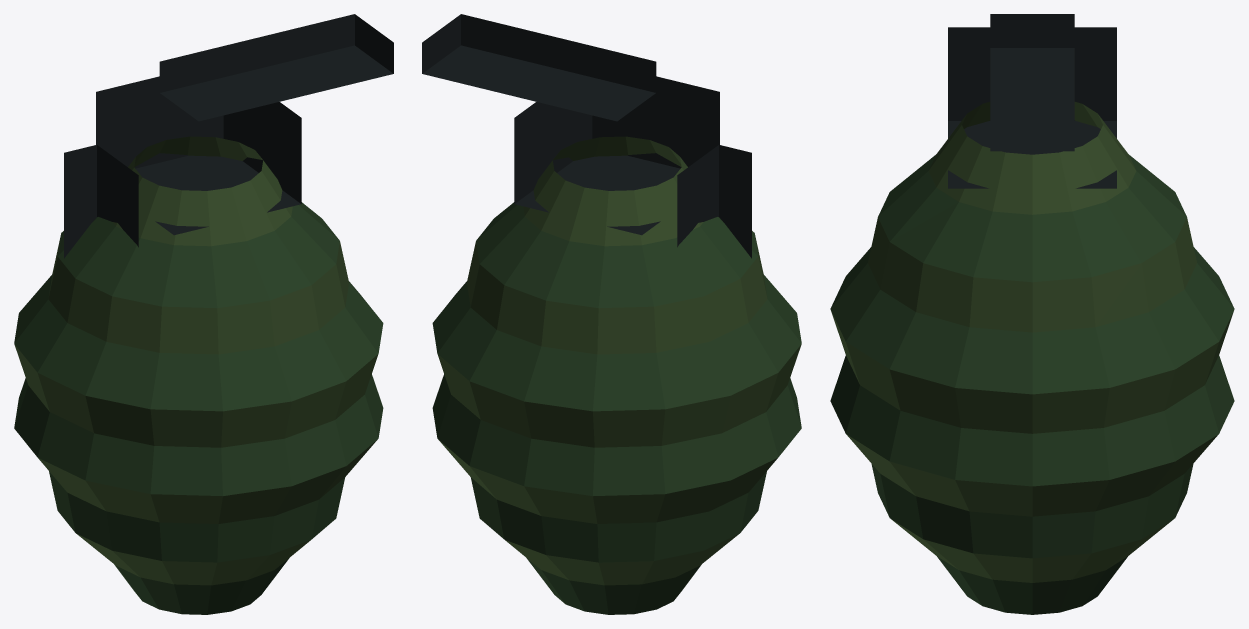
File: FragGrenade.obj
3 renders of one model, left to right at view 1: azimuth 30°, elevation 25°; view 2: azimuth 150°, elevation 25°; view 3: azimuth 270°, elevation 25°, orthographic. The views are drawn at different scales.
Size of the model in its own units: 0.2245 by 0.329 by 0.2149.
